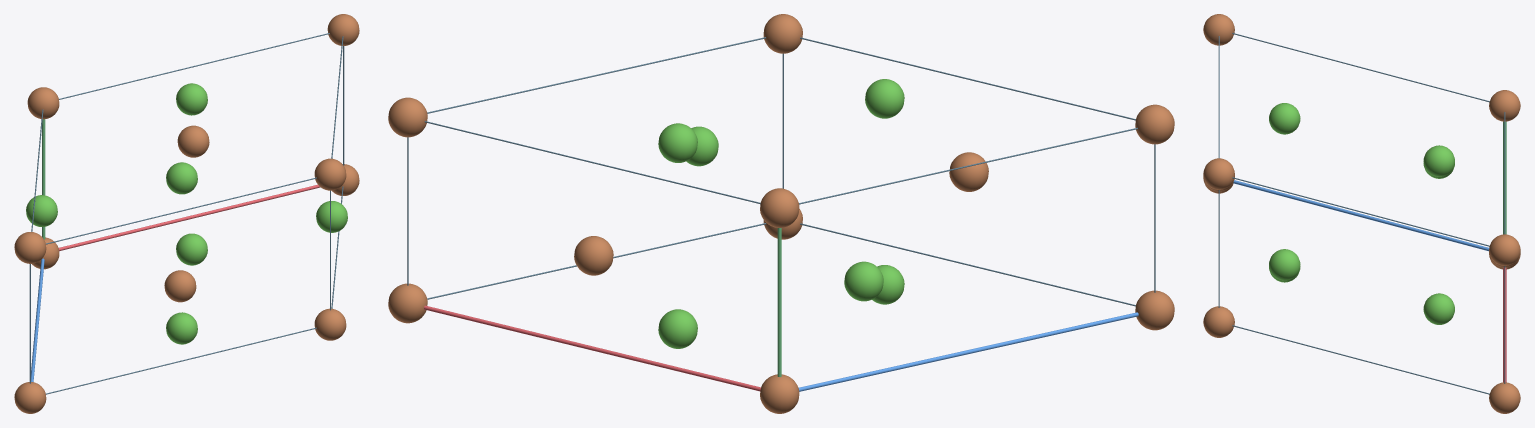
Rendered from chat-tolbachite.glb.
The picture shows the model from 3 angles, left to right: view 1: azimuth 30°, elevation 25°; view 2: azimuth 150°, elevation 25°; view 3: azimuth 270°, elevation 25°; orthographic projection. The views are drawn at different scales.
Visible parts, largest first — view 1: Cu · Cu · 1 (×10), Cl · Cl · 1 (×6), Ô mạng và các trục a, b, c; view 2: Cu · Cu · 1 (×9), Ô mạng và các trục a, b, c, Cl · Cl · 1 (×6); view 3: Cu · Cu · 1 (×6), Ô mạng và các trục a, b, c, Cl · Cl · 1 (×4).
Boxes of the visible parts, x1,y1,x2,y2 form: Cu · Cu · 1 (×10): [14, 14, 359, 413]; Cl · Cl · 1 (×6): [26, 83, 347, 344]; Ô mạng và các trục a, b, c: [29, 33, 344, 394]; Cu · Cu · 1 (×9): [388, 14, 1174, 413]; Ô mạng và các trục a, b, c: [407, 37, 1155, 391]; Cl · Cl · 1 (×6): [658, 79, 904, 348]; Cu · Cu · 1 (×6): [1203, 14, 1520, 413]; Ô mạng và các trục a, b, c: [1218, 33, 1506, 394]; Cl · Cl · 1 (×4): [1269, 103, 1454, 324].
Size of the model in its own units: 11.18 by 3.94 by 6.41.
